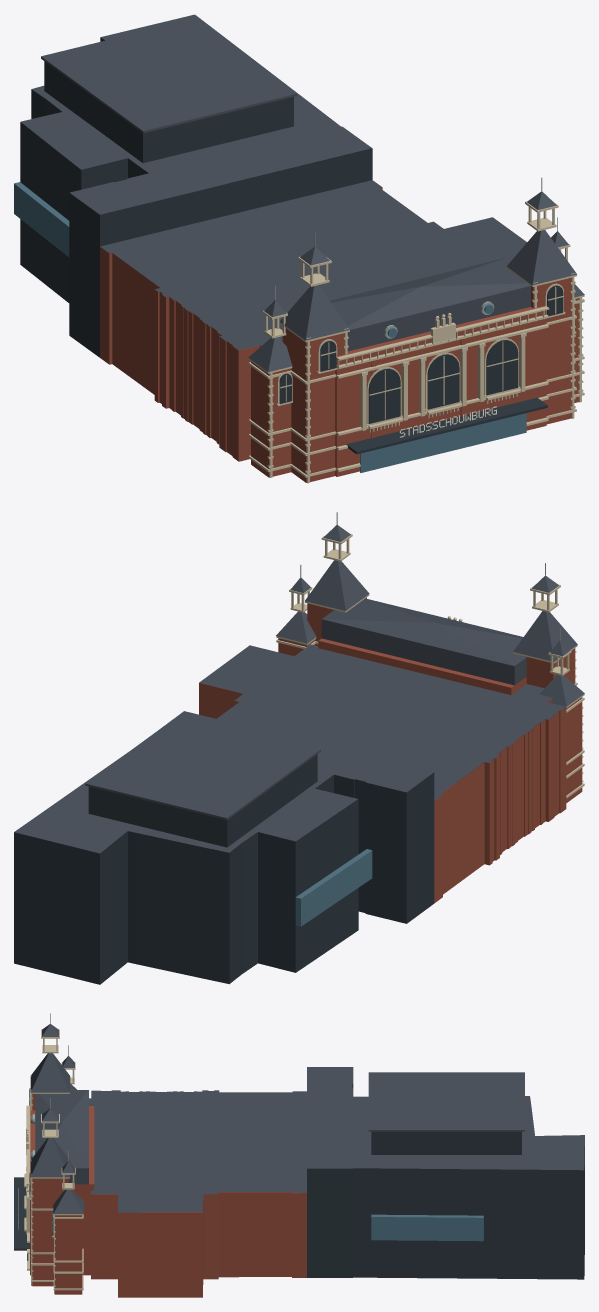
File: stadsschouwburg.glb
3 views of the same model, one above another, from view 1: azimuth 30°, elevation 25°; view 2: azimuth 150°, elevation 25°; view 3: azimuth 270°, elevation 25° (orthographic). The views are drawn at different scales.
Parts seen in each view (by area): view 1: stadsschouwburg; view 2: stadsschouwburg; view 3: stadsschouwburg.
Part boxes in pixels (x1,y1,x2,y2): stadsschouwburg: (14, 14, 584, 483); stadsschouwburg: (14, 512, 584, 984); stadsschouwburg: (14, 1013, 584, 1297).
Bounding box in the file's own units: 53.97 × 37.2 × 107.
